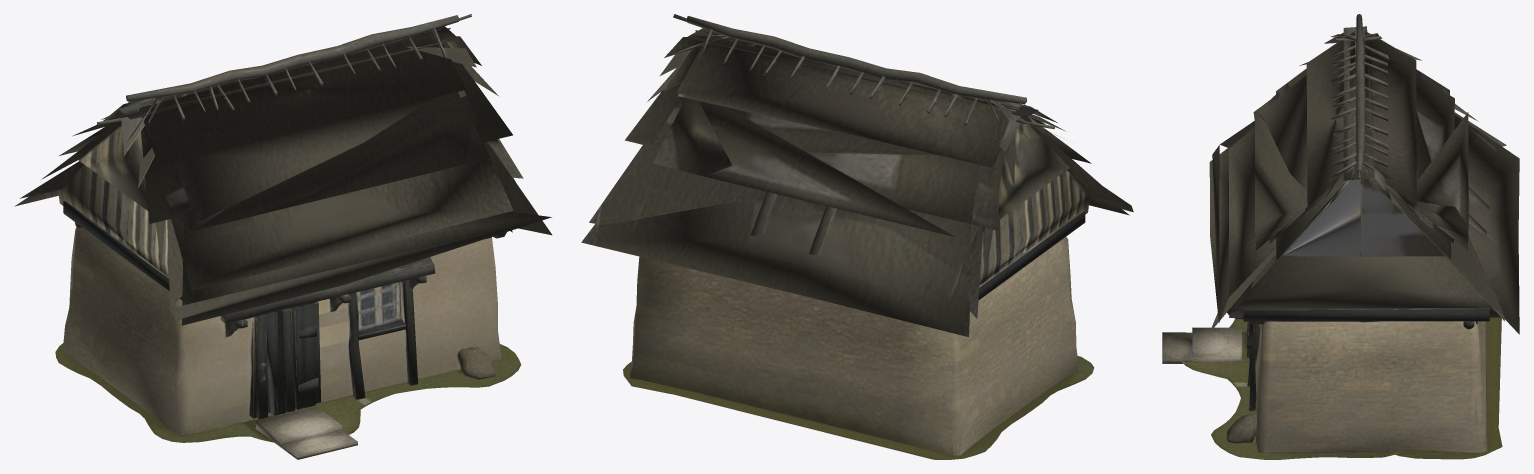
The model's file is world-house-b.glb.
3 renders of one model, left to right at view 1: azimuth 30°, elevation 25°; view 2: azimuth 150°, elevation 25°; view 3: azimuth 270°, elevation 25°, orthographic. The views are drawn at different scales.
Bounding box in the file's own units: 3 × 2.32 × 2.55.
1 material, 1 textured.
